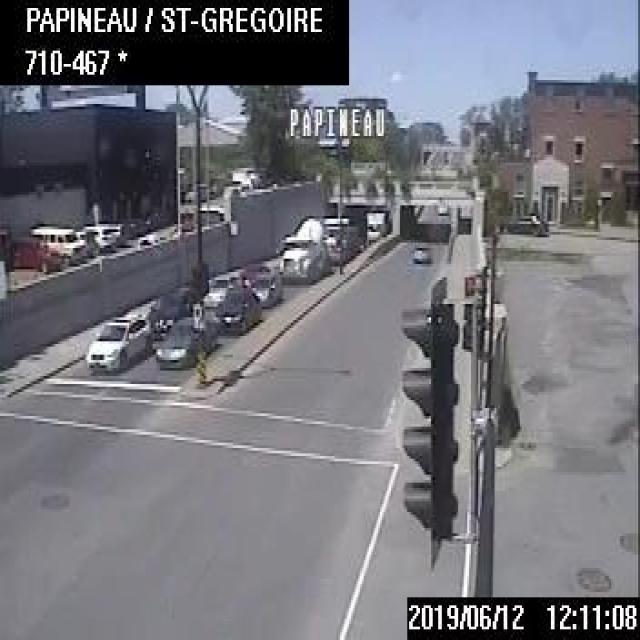vehicle: (84, 310, 152, 371), (154, 309, 216, 370), (277, 215, 328, 282), (145, 283, 202, 337), (30, 225, 86, 263), (215, 283, 257, 331), (9, 237, 64, 272), (248, 271, 282, 305), (80, 219, 114, 250), (363, 208, 384, 242), (74, 228, 98, 256), (411, 243, 431, 261)
